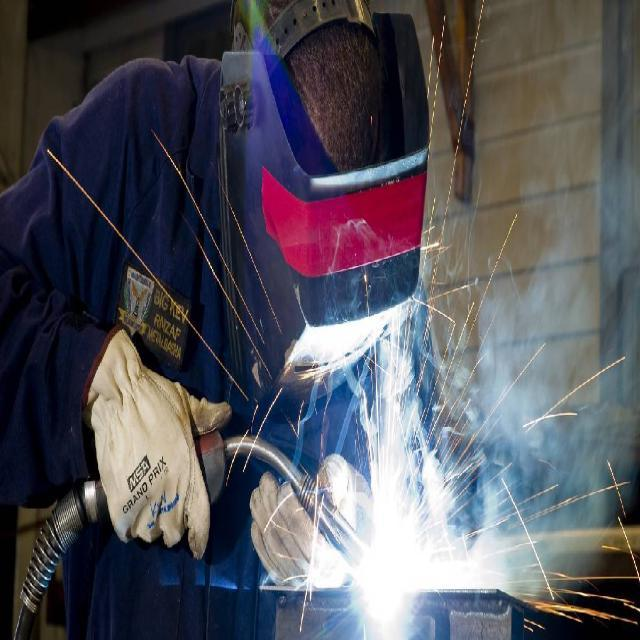with_helmet: (221, 0, 428, 378)
